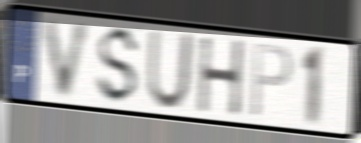1: (300, 42, 329, 131)
H: (197, 35, 246, 119)
P: (248, 41, 295, 121)
S: (93, 24, 143, 107)
U: (144, 28, 196, 113)
V: (41, 17, 95, 101)
